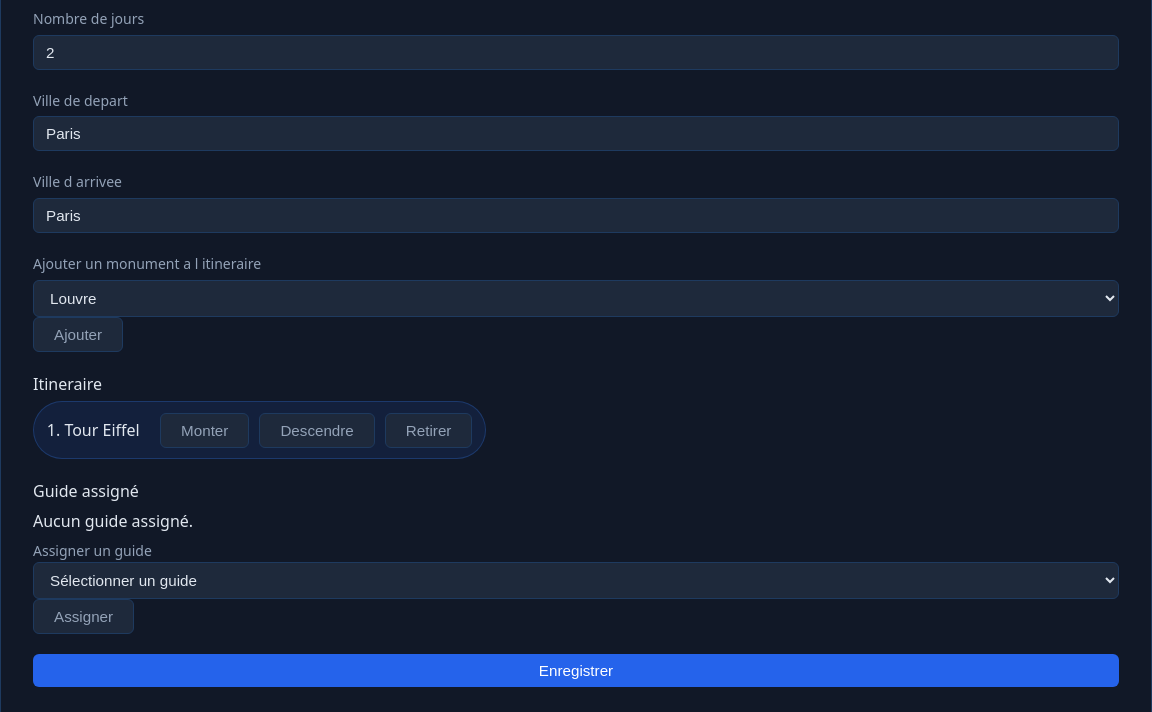
ModifierCircuit › affiche le message du backend si l assignation du guide echoue
(page scrolled)
Expected: the text "1. Tour Eiffel" is shown, [47,418,140,442]
Select "Nina Bernard" in the dropdown labelled "Assigner un guide" at coordinates (576, 581), box [33,562,1119,599]
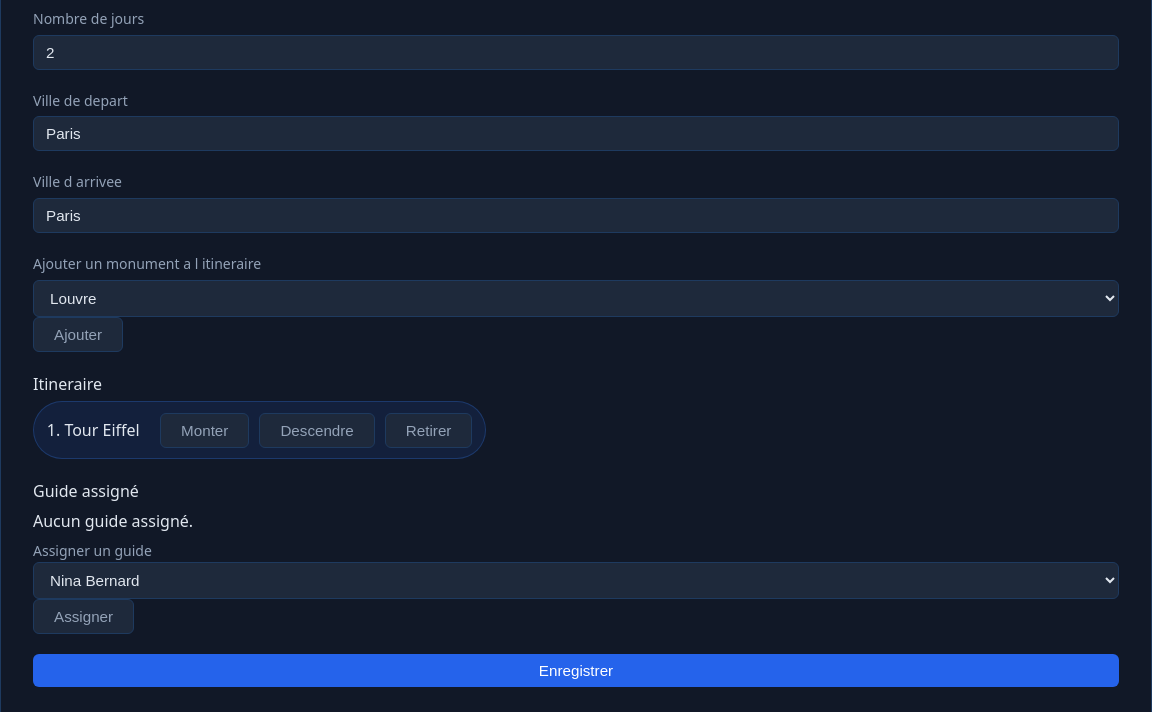
Click the button "Assigner" at coordinates (84, 617), box [33,599,134,634]
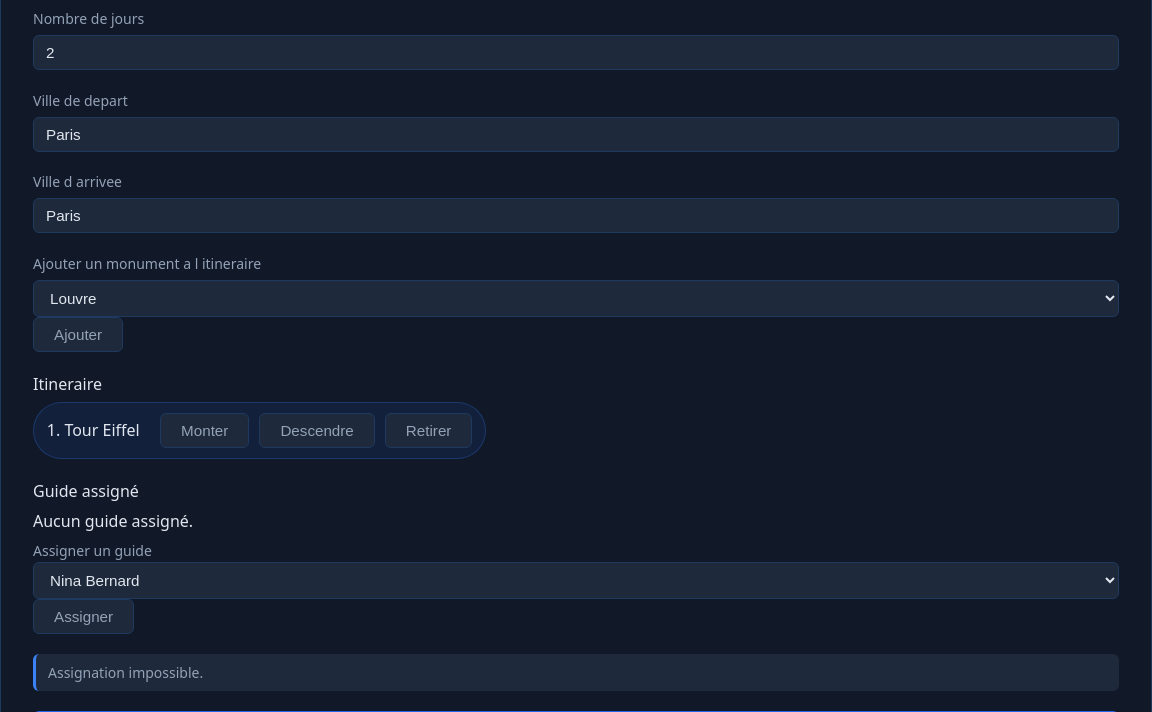
Expected: the text "Assignation impossible." is shown, [33,654,1119,691]
